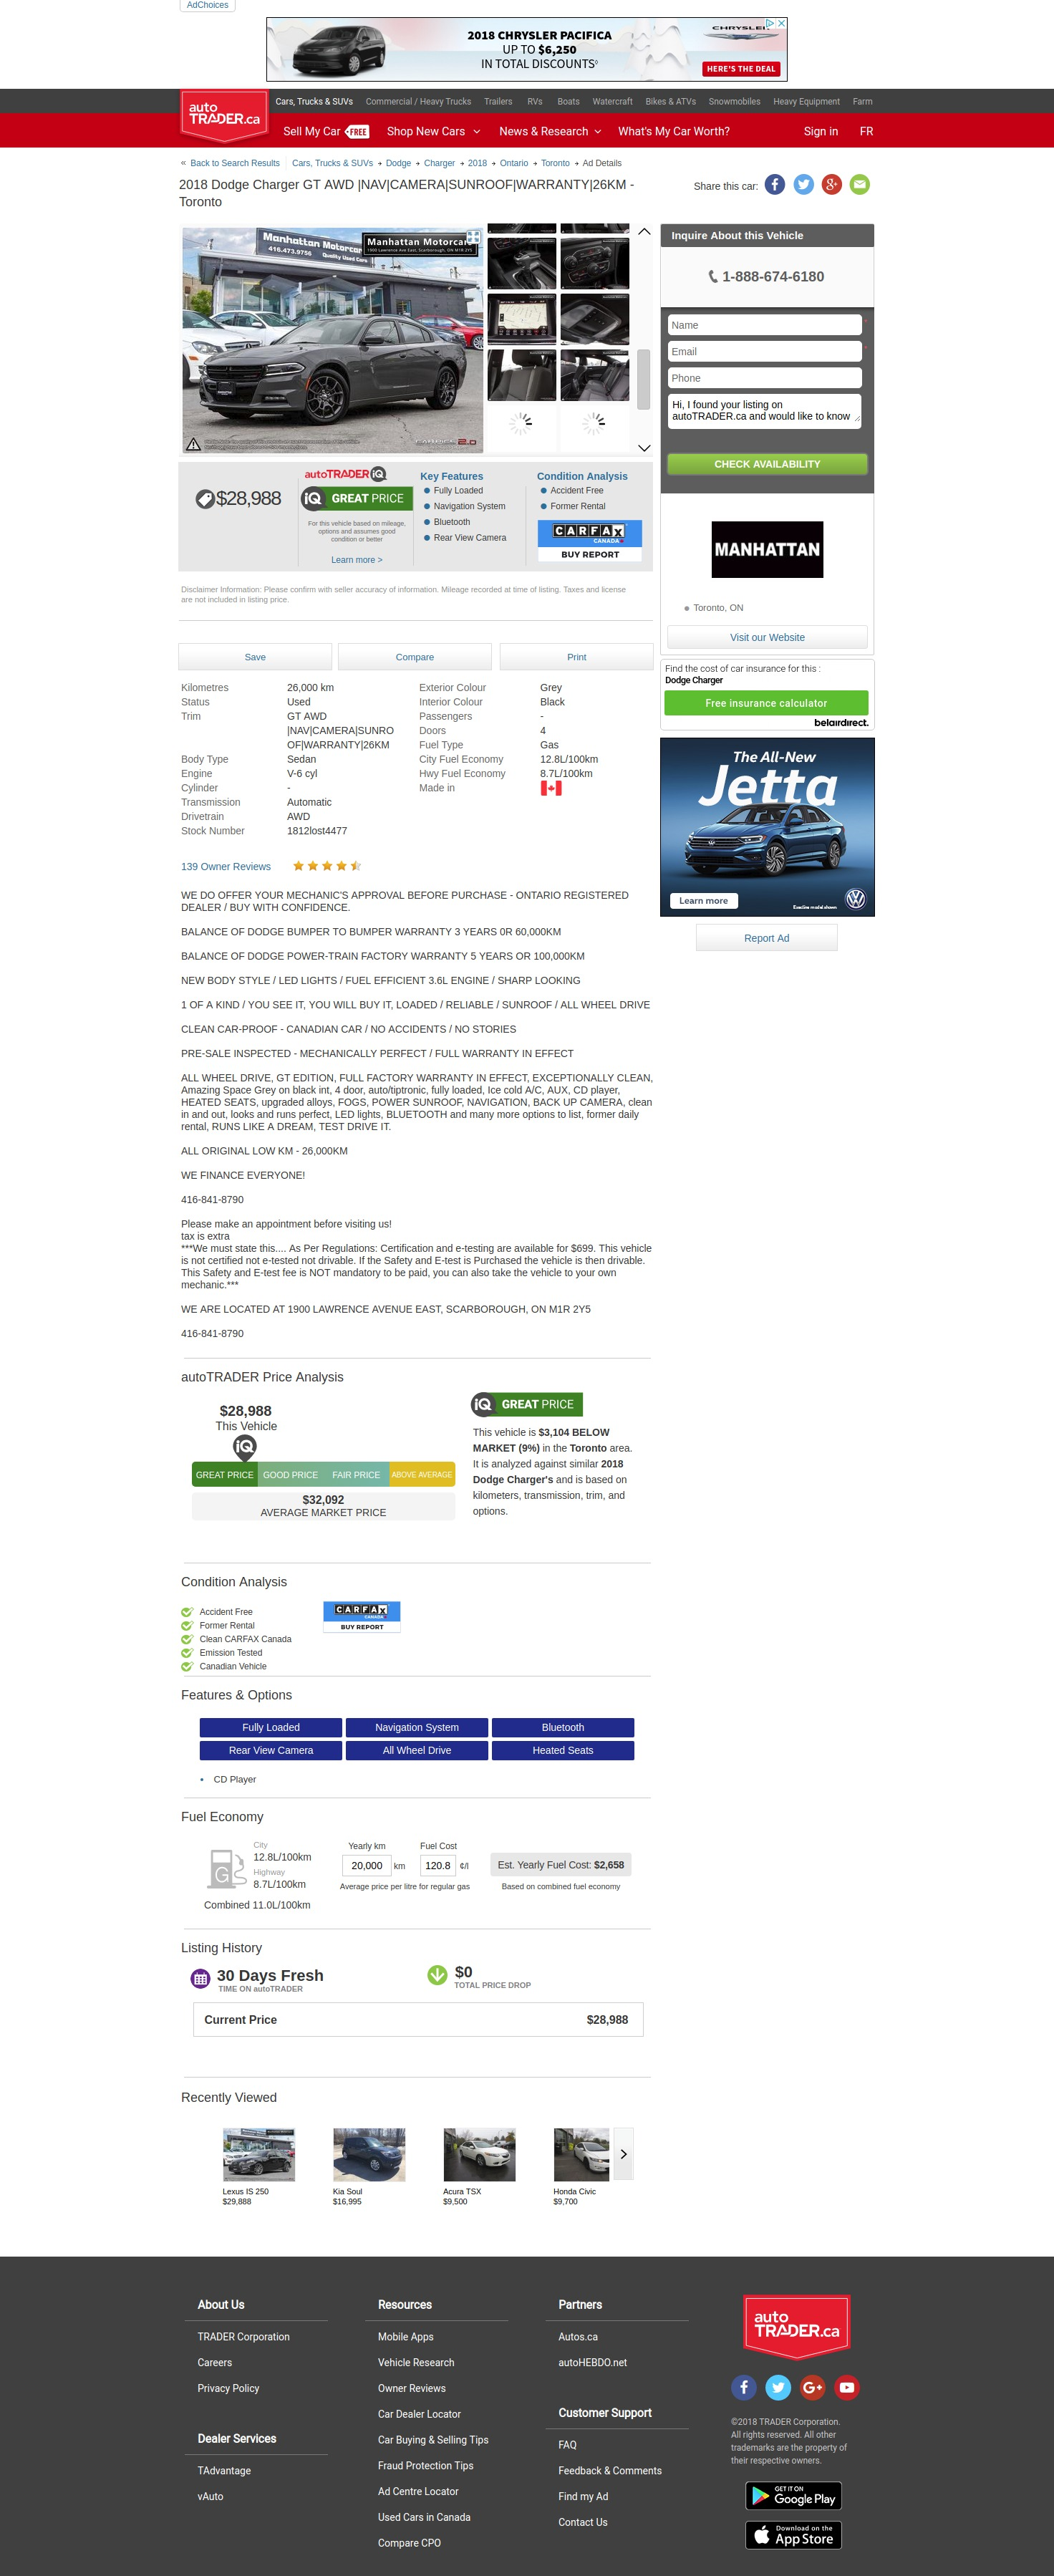car: (637, 444, 652, 453)
